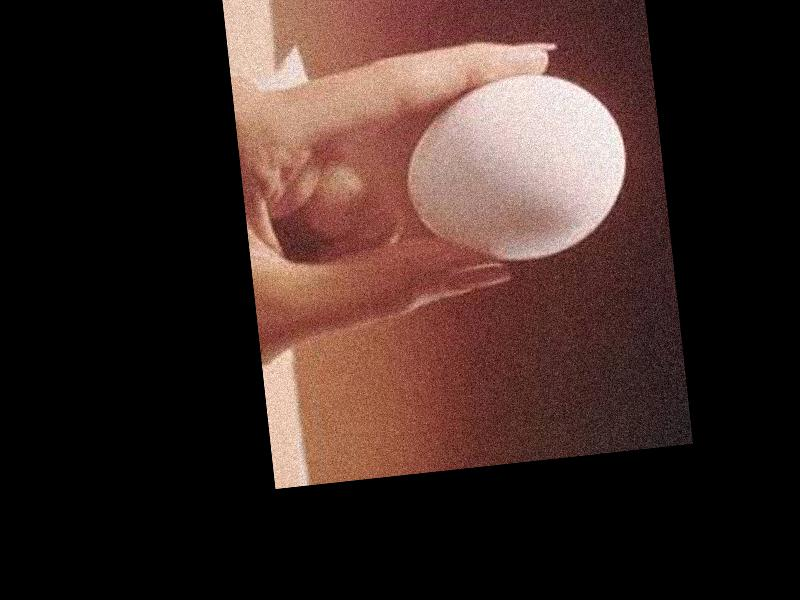Eggs: (394, 65, 634, 275)
